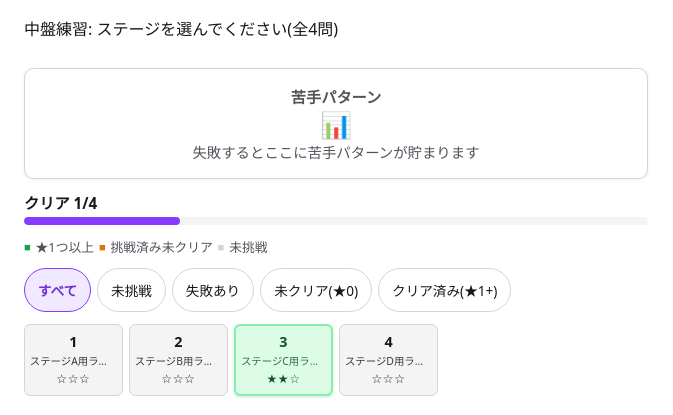
Test: T130/T141: 中盤練習ステージ一覧の復習フィルタ(★制) › 該当0件のとき、グリッドの代わりに空表示メッセージを出す
Click the button with class "midgame-stage-select__filter-button" showing "失敗あり".
click(213, 290)  # box [172, 268, 254, 312]
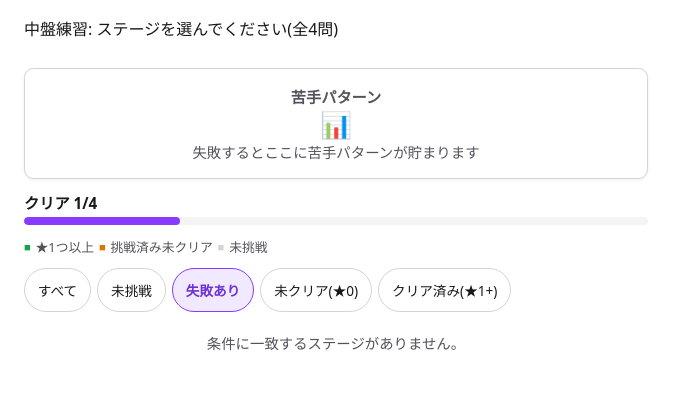
Expected: the element with class "midgame-stage-grid" is gone
Expected: the text with class "midgame-stage-select__empty" shows "条件に一致するステージがありません", [207, 334, 465, 353]
